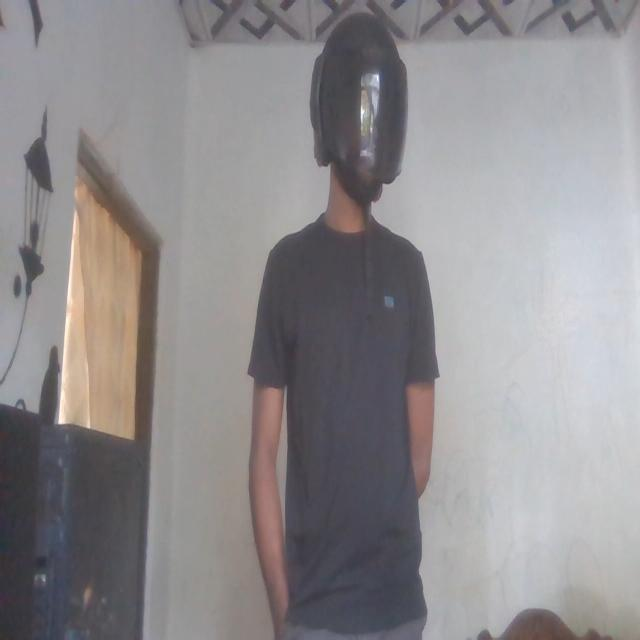Helmet_Wearer: (298, 2, 408, 266)
Person: (242, 0, 442, 640)
